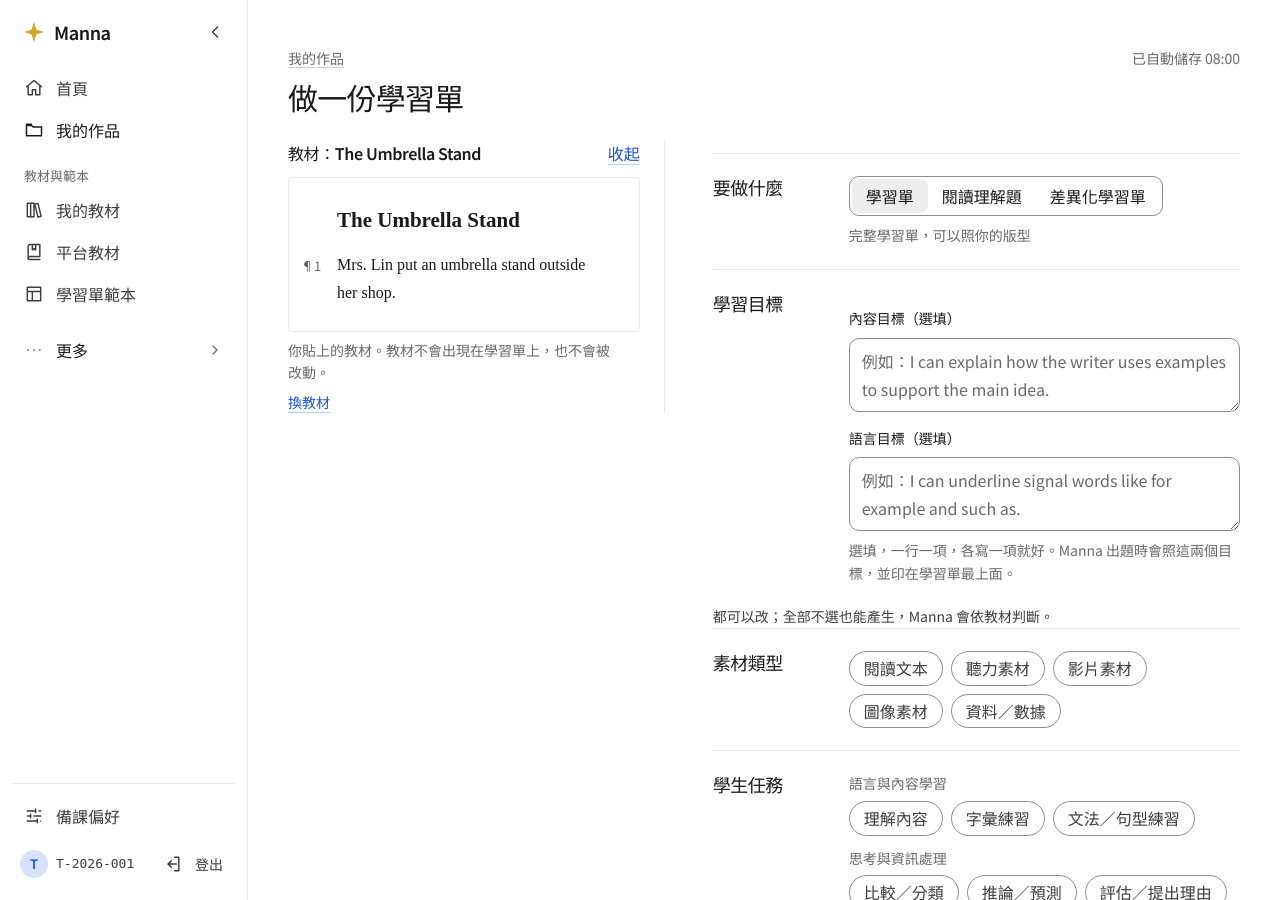
Test: settings view: 要做什麼, Bloom presets, 題數, 學習目標, 給 Manna 的要求 › 學習單 keeps the four blocks; 閱讀理解題 swaps them for the Bloom picker, 作答方式 and 版本
The width and height of the screenshot is (1280, 900).
Check: the radio button labelled "學習單" is checked, box [852,179,928,214]
Check: the element "素材類型" is shown, box [713,628,1240,750]
Click the radio button labelled "閱讀理解題": (982, 196) [942,184,1022,208]
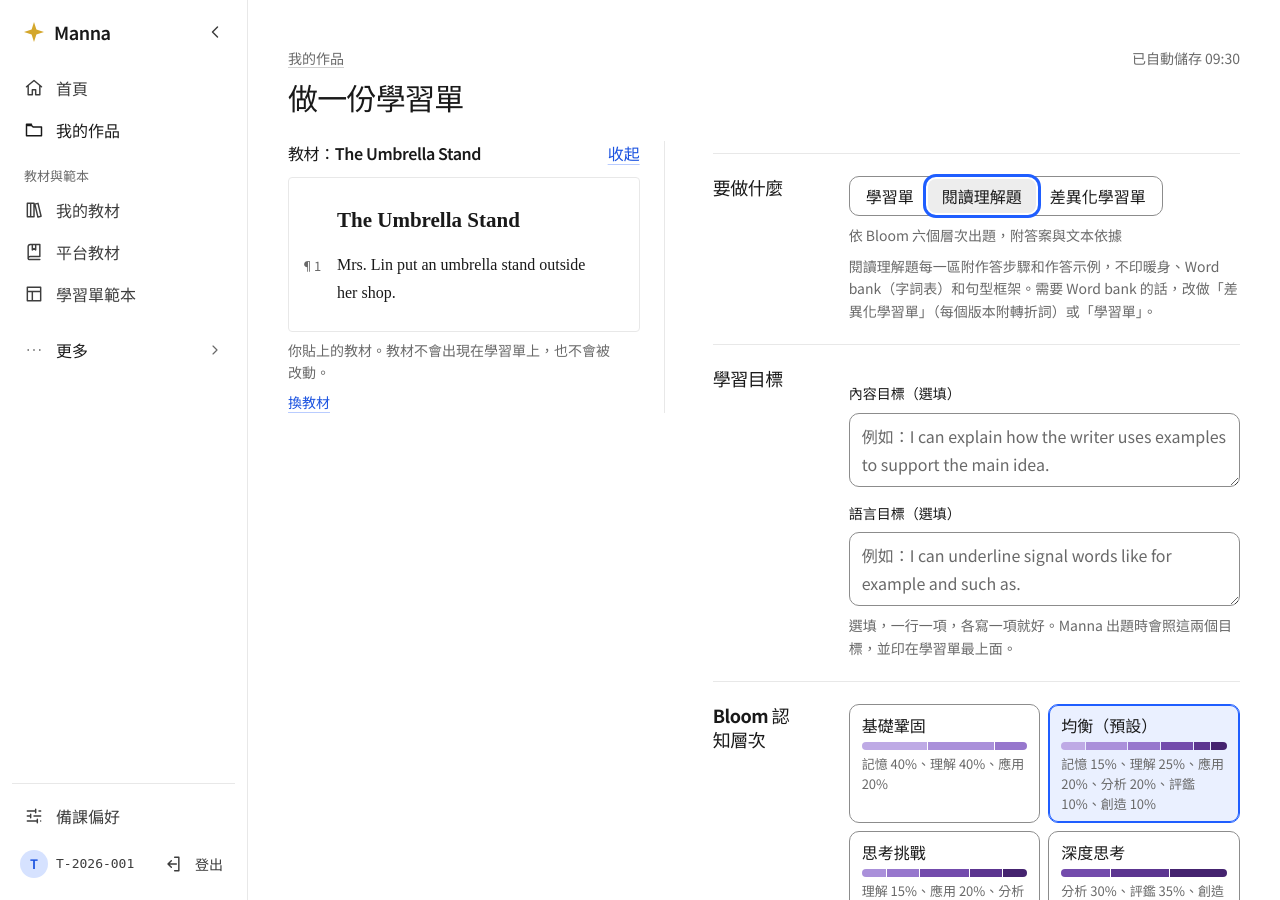
Check: the text "已自動儲存 09:30" is shown, box [1132,48,1240,70]
Check: the heading "素材類型" is gone
Check: the radio button labelled "均衡（預設） 記憶 15%、理解 25%、應用 20%、分析 20%、評鑑 10%、創造 10%" is checked, box [1048,704,1240,823]
